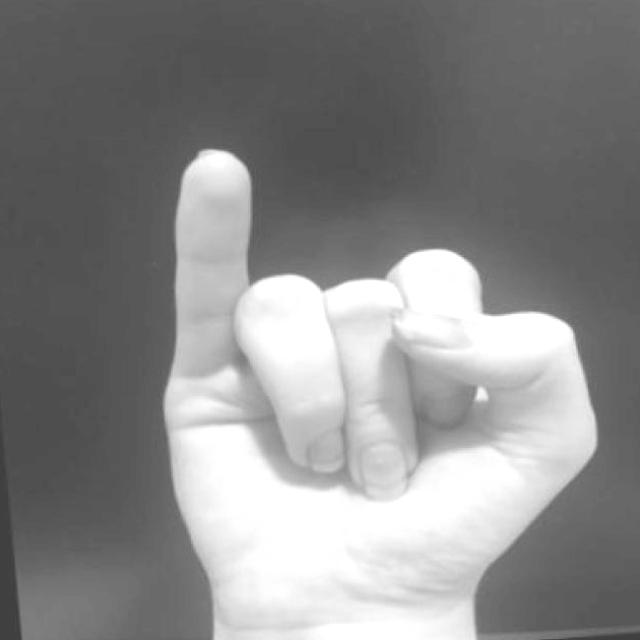I: (161, 143, 608, 640)
